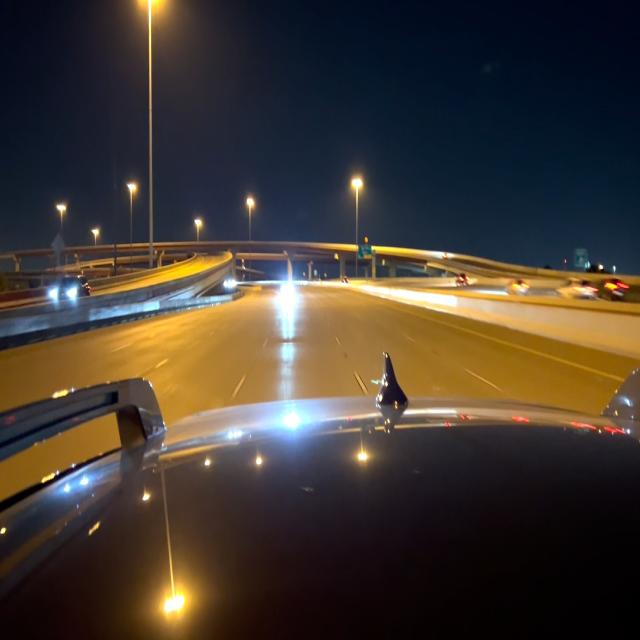back-of-sign: (52, 232, 65, 256)
